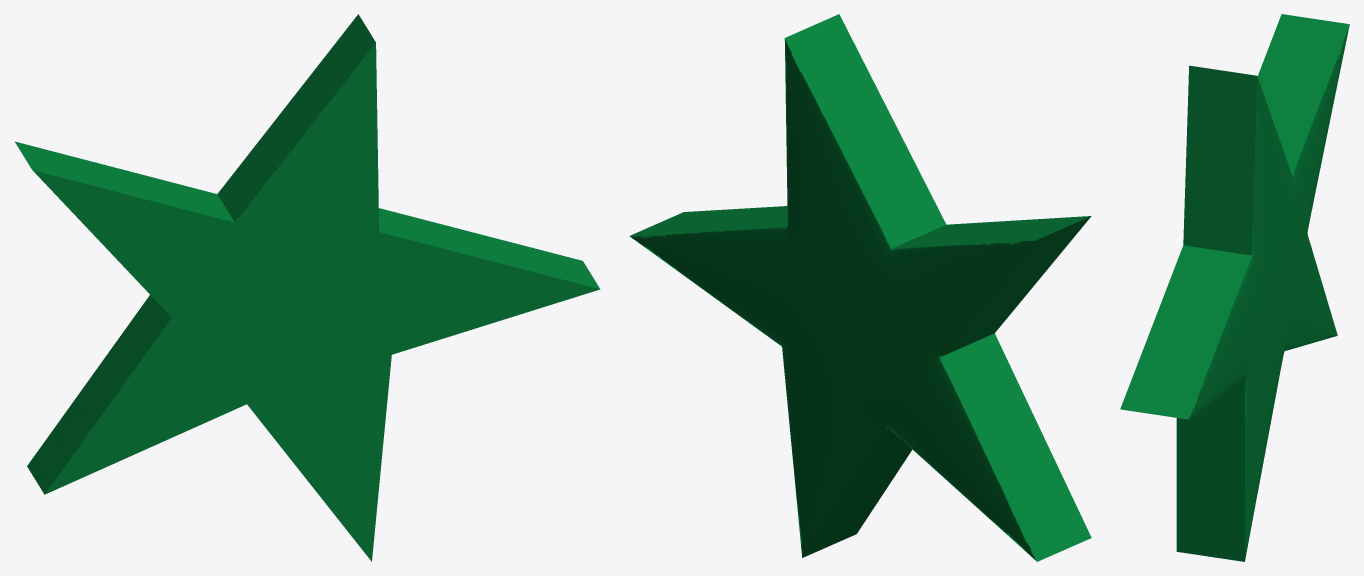
Rendered from charms3.glb.
3 views of the same model, side by side, from view 1: azimuth 30°, elevation 25°; view 2: azimuth 150°, elevation 25°; view 3: azimuth 270°, elevation 25° (orthographic). The views are drawn at different scales.
Visible parts, largest first — view 1: Recurso 2-1.001; view 2: Recurso 2-1.001; view 3: Recurso 2-1.001.
Part boxes in pixels (left/top/right/bottom): Recurso 2-1.001: left=14, top=14, right=600, bottom=561; Recurso 2-1.001: left=629, top=14, right=1091, bottom=561; Recurso 2-1.001: left=1120, top=14, right=1349, bottom=561.
Size of the model in its own units: 1.46 by 1.43 by 0.602.
